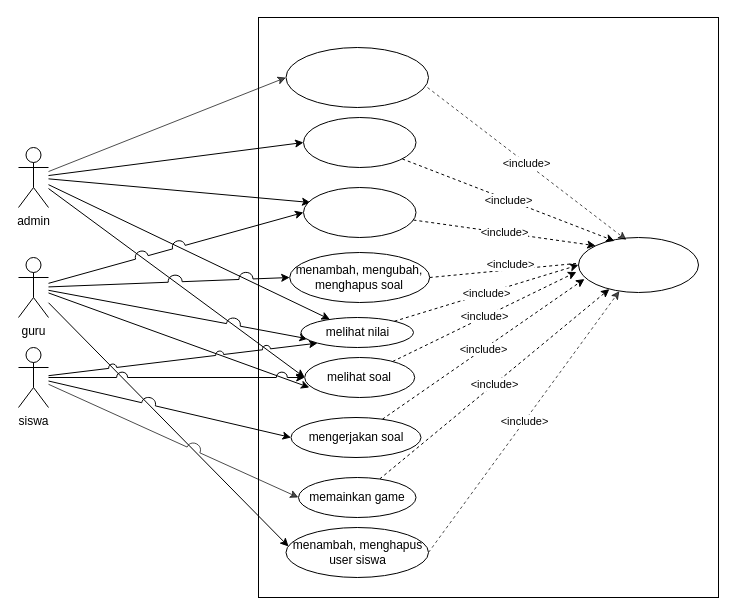
Image size: 736x615. Some labels were removed from this diagram. The shapes that lost their labels are listed below. From the top down, each one's centre as x and y in pixels, then its label:
At (356,77): "menambah, meghapus user guru".
At (359,142): "melihat user guru".
At (359,212): "melihat user siswa".
At (638,264): "login".
